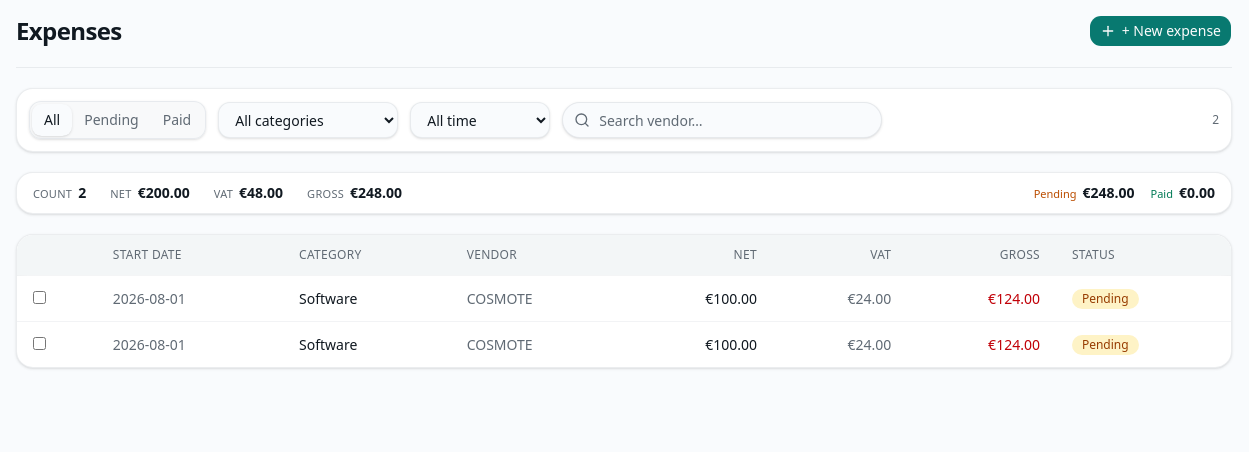
Scenario: ExpensesPage — M7 clears selection when filters change › drops the bulk selection when the vendor search changes
This screenshot has width=1249, height=452.
Click the 1st checkbox named "Select row" at (40, 297), box [33, 290, 46, 304]
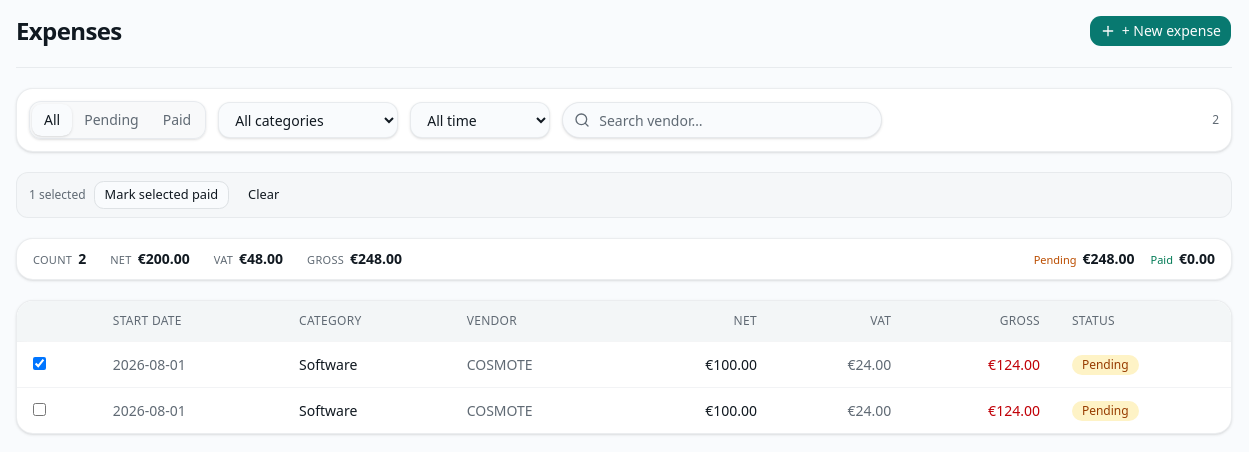
Result: the text "1 selected" is shown at [29, 187, 86, 203]
Type "COSMOTE" into the field labelled "Search vendor…" at (722, 120), box [562, 102, 882, 138]
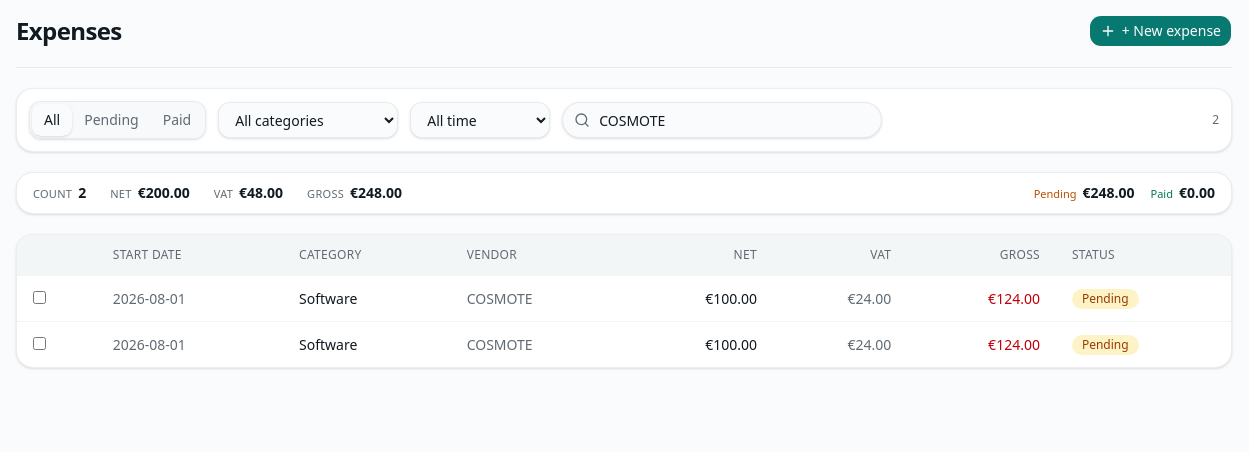
Result: the text "1 selected" is gone
